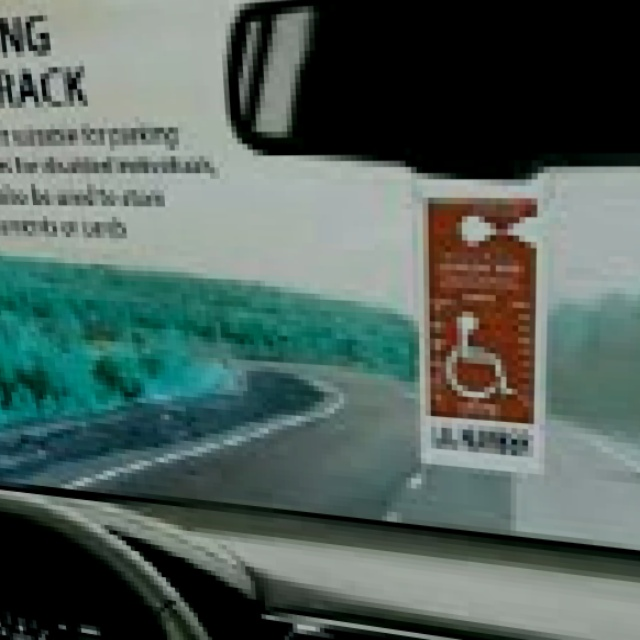ISA: (434, 296, 522, 405)
